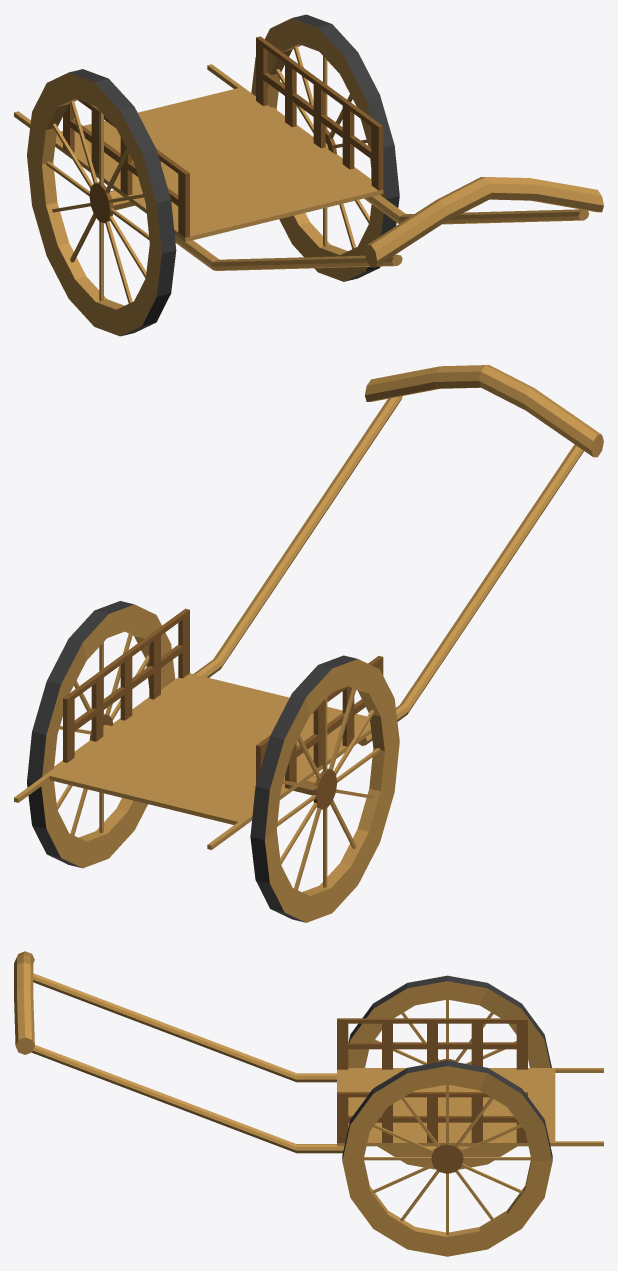
File: light.fbx
3 views of the same model, one above another, from view 1: azimuth 30°, elevation 25°; view 2: azimuth 150°, elevation 25°; view 3: azimuth 270°, elevation 25° (orthographic). The views are drawn at different scales.
Parts seen in each view (by area): view 1: Light; view 2: Light; view 3: Light.
Part boxes in pixels (x1=…): Light: x1=14, y1=14, x2=603, y2=336; Light: x1=14, y1=365, x2=603, y2=922; Light: x1=14, y1=951, x2=603, y2=1256.
Bounding box in the file's own units: 1.32 × 1.7 × 3.65.
